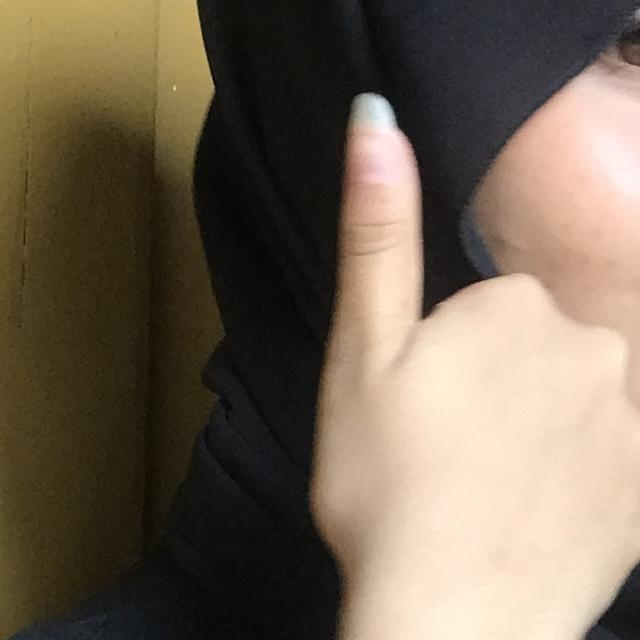telpon: (170, 0, 640, 586)
